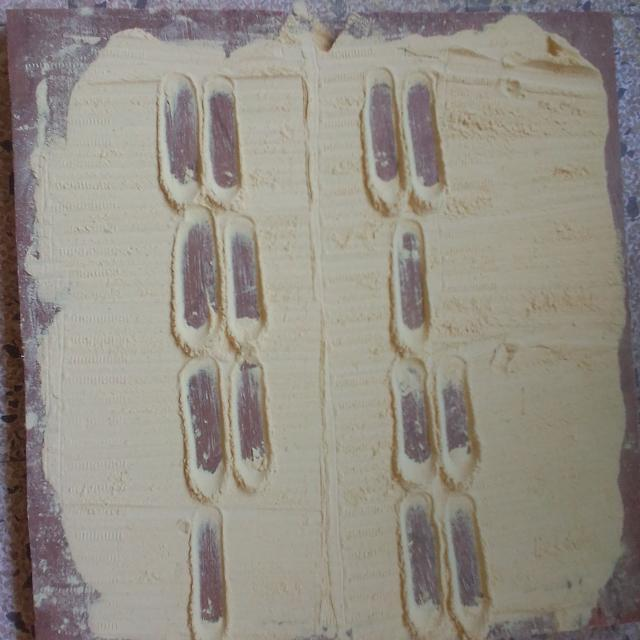double: (392, 503, 493, 609), (169, 224, 270, 328), (180, 363, 272, 476), (154, 77, 248, 186), (365, 74, 448, 184), (384, 372, 481, 459)
single: (188, 508, 228, 627), (389, 228, 429, 338)
